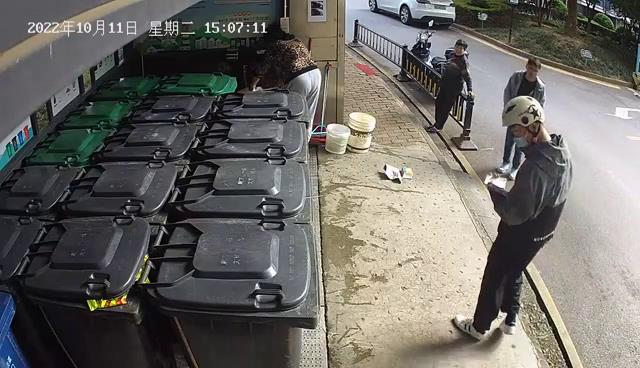person: (449, 92, 578, 347), (246, 21, 325, 153), (422, 36, 475, 135)
zhizhipin: (380, 160, 404, 187), (400, 164, 415, 181)
